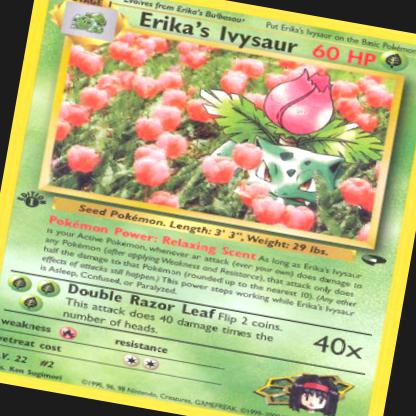Ivysaur: (185, 51, 389, 223)
